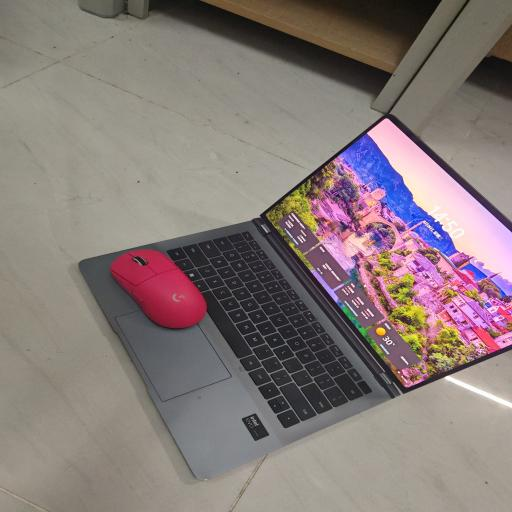laptop: (79, 115, 512, 479)
mouse: (110, 250, 206, 328)
